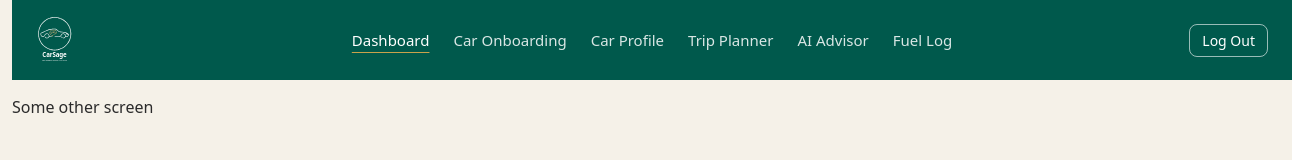
Test case: SiteNav auth control › clicking Log Out signs out, goes to the Log In screen, and shows Sign Up / Log In
The width and height of the screenshot is (1292, 160).
Click the button "Log Out" at [1229, 40], box [1189, 24, 1268, 56]
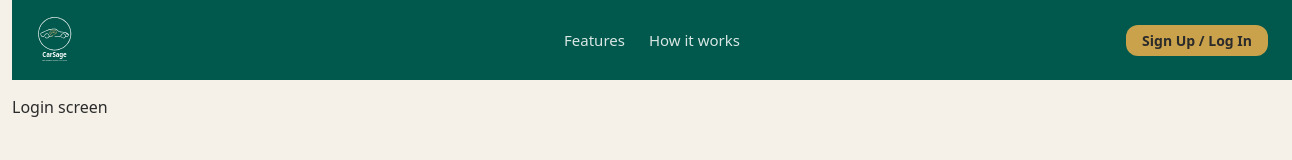
Expected: the text "Login screen" is shown, [12, 96, 108, 118]
Expected: the link "Sign Up / Log In" is shown, [1126, 24, 1268, 56]
Expected: the button "Log Out" is gone
